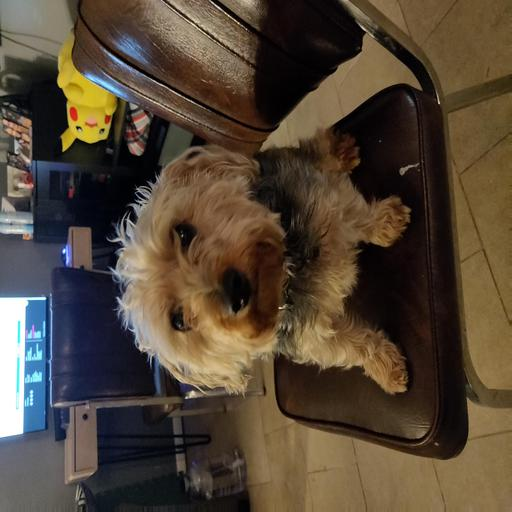dog: (105, 130, 358, 383)
